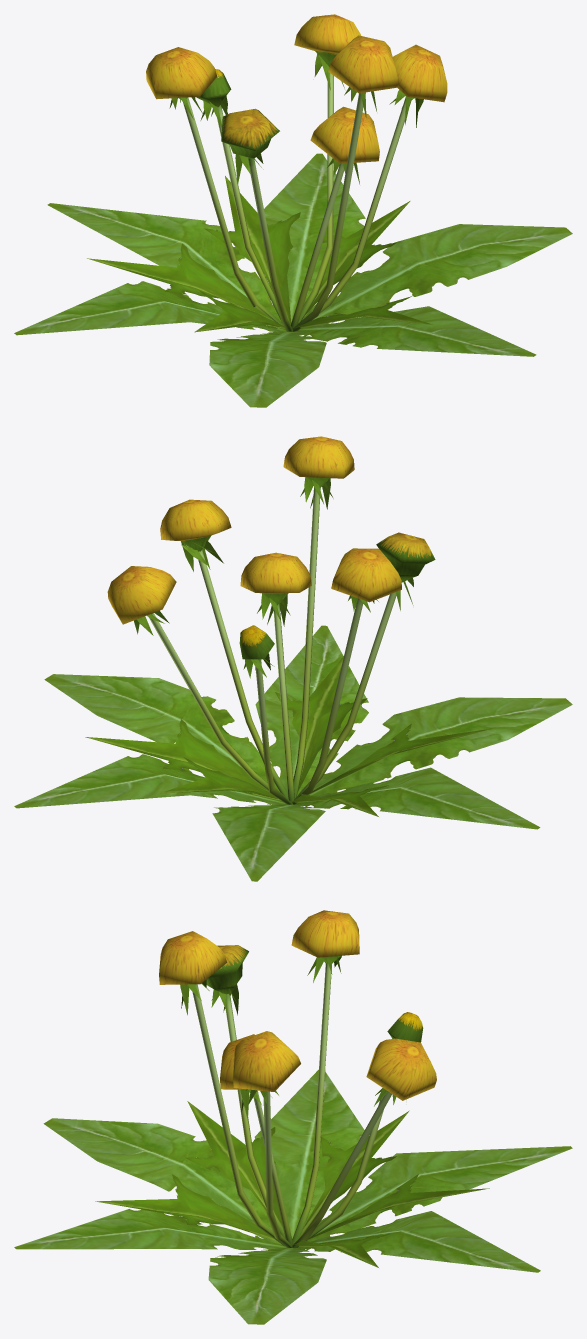
File: dandelion.fbx
3 views of the same model, one above another, from view 1: azimuth 30°, elevation 25°; view 2: azimuth 150°, elevation 25°; view 3: azimuth 270°, elevation 25° (orthographic).
Parts seen in each view (by area): view 1: polySurface1056; view 2: polySurface1056; view 3: polySurface1056.
Boxes of the visible parts, bbox=[...] form: polySurface1056: bbox=[14, 14, 572, 407]; polySurface1056: bbox=[14, 436, 572, 881]; polySurface1056: bbox=[14, 910, 572, 1324].
Bounding box in the file's own units: 28.94 × 17.01 × 26.79.
1 material, 1 textured.
